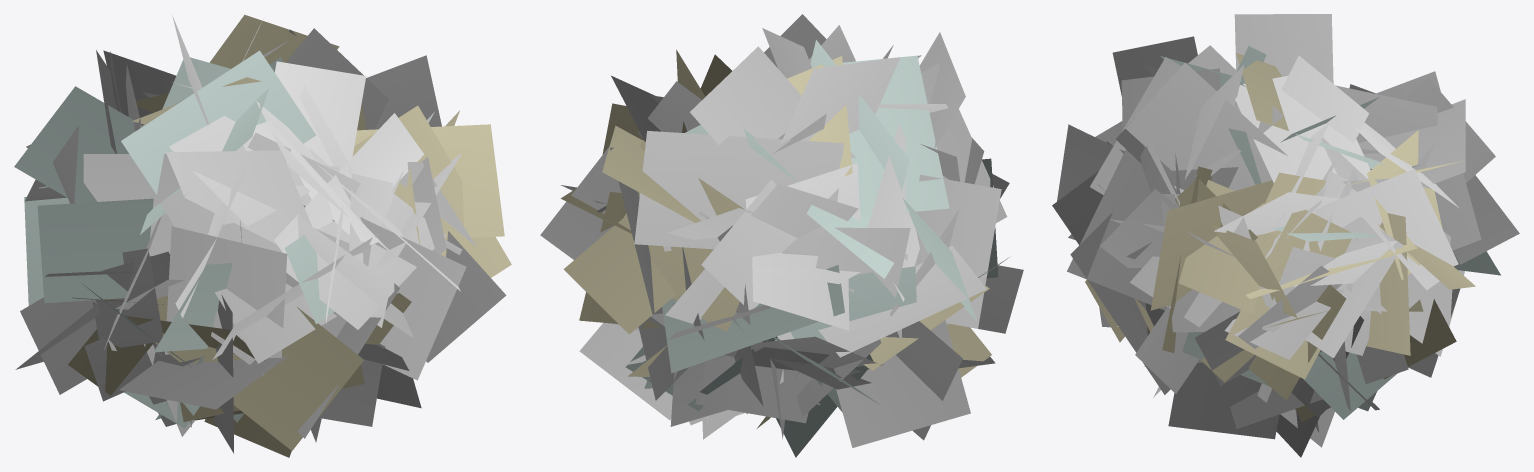
File: yard-shrub-red.lod0.glb
3 renders of one model, left to right at view 1: azimuth 30°, elevation 25°; view 2: azimuth 150°, elevation 25°; view 3: azimuth 270°, elevation 25°, orthographic. The views are drawn at different scales.
Parts seen in each view (by area): view 1: yard-shrub-red; view 2: yard-shrub-red; view 3: yard-shrub-red.
Part boxes in pixels (x1,y1,x2,y2): yard-shrub-red: (14, 14, 511, 457); yard-shrub-red: (540, 14, 1023, 457); yard-shrub-red: (1052, 14, 1519, 457).
Size of the model in its own units: 0.575 by 0.5535 by 0.6159.
